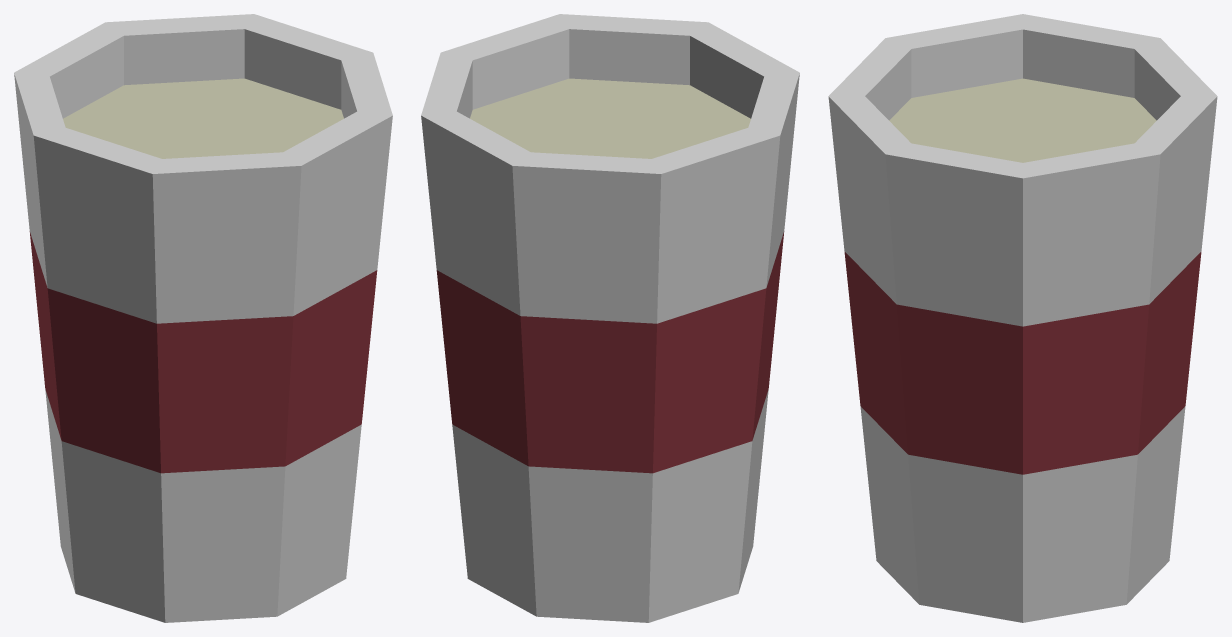
The model's file is FullCup.fbx.
The picture shows the model from 3 angles, left to right: view 1: azimuth 30°, elevation 25°; view 2: azimuth 150°, elevation 25°; view 3: azimuth 270°, elevation 25°; orthographic projection.
Parts seen in each view (by area): view 1: FullCup; view 2: FullCup; view 3: FullCup.
Boxes of the visible parts, <box> form: FullCup: <box>14,14,392,622</box>; FullCup: <box>421,14,799,622</box>; FullCup: <box>828,14,1217,622</box>.
Bounding box in the file's own units: 10.34 × 13.64 × 10.34.
